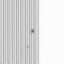dust: (31, 29, 34, 32), (26, 45, 28, 48)
